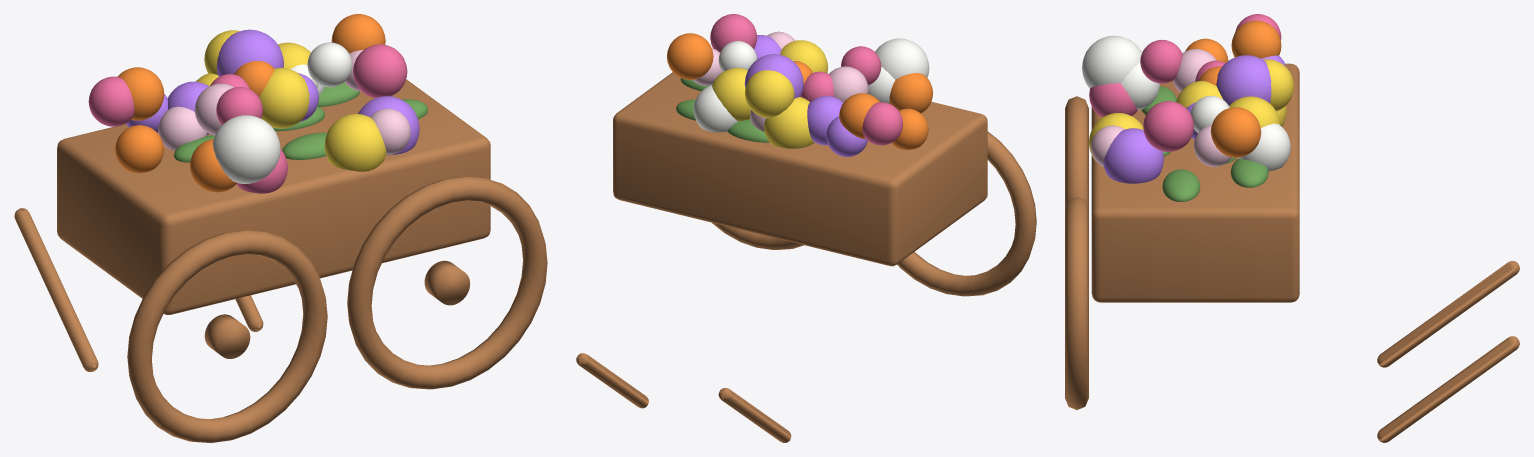
The model's file is plush_flowercart.glb.
3 renders of one model, left to right at view 1: azimuth 30°, elevation 25°; view 2: azimuth 150°, elevation 25°; view 3: azimuth 270°, elevation 25°, orthographic. The views are drawn at different scales.
Parts seen in each view (by area): view 1: bed, bloom0; view 2: bed, bloom0; view 3: bed, bloom0.
Part boxes in pixels (bbox=[...]): bed: bbox=[14, 79, 547, 442]; bloom0: bbox=[88, 14, 428, 193]; bed: bbox=[576, 72, 1036, 442]; bloom0: bbox=[667, 14, 932, 156]; bed: bbox=[1065, 63, 1519, 442]; bloom0: bbox=[1082, 14, 1293, 201].
Size of the model in its own units: 1.52 by 1.29 by 1.53.
Materials: 2 (2 with a texture image).
